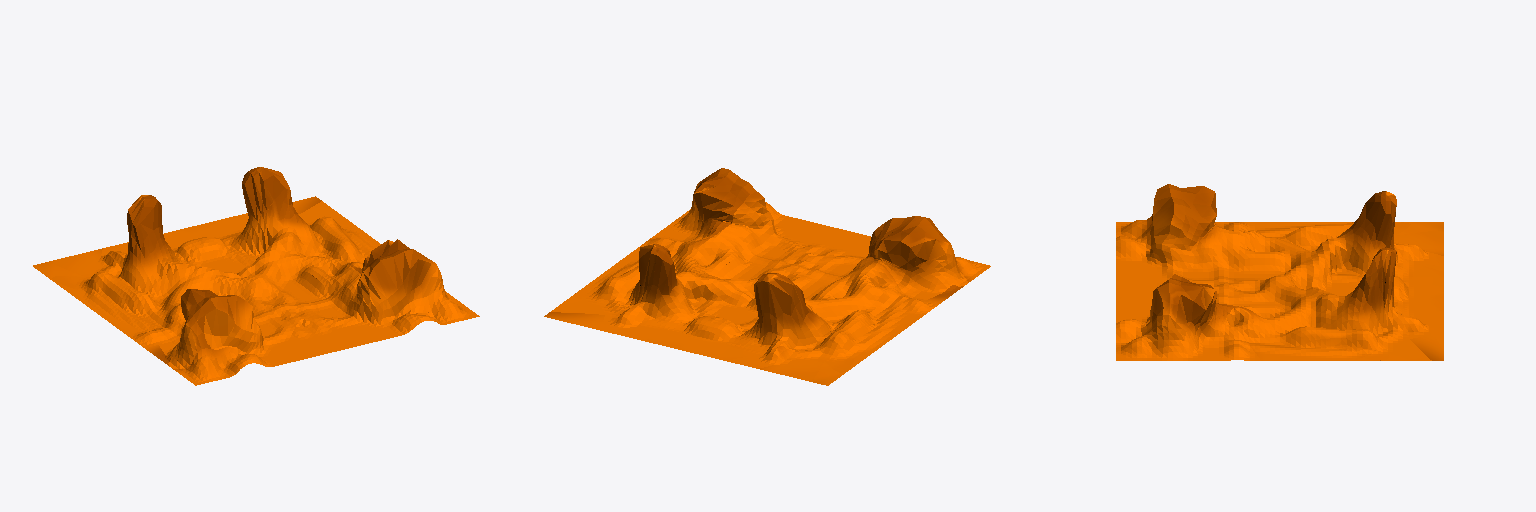
3 views of the same model, side by side, from view 1: azimuth 30°, elevation 25°; view 2: azimuth 150°, elevation 25°; view 3: azimuth 270°, elevation 25° (orthographic).
Visible parts, largest first — view 1: Plane; view 2: Plane; view 3: Plane.
Part boxes in pixels (bbox=[...]): Plane: bbox=[33, 167, 479, 385]; Plane: bbox=[544, 168, 990, 385]; Plane: bbox=[1116, 184, 1443, 360].
Size of the model in its own units: 15.96 by 3.78 by 15.99.
1 materials, 1 textured.